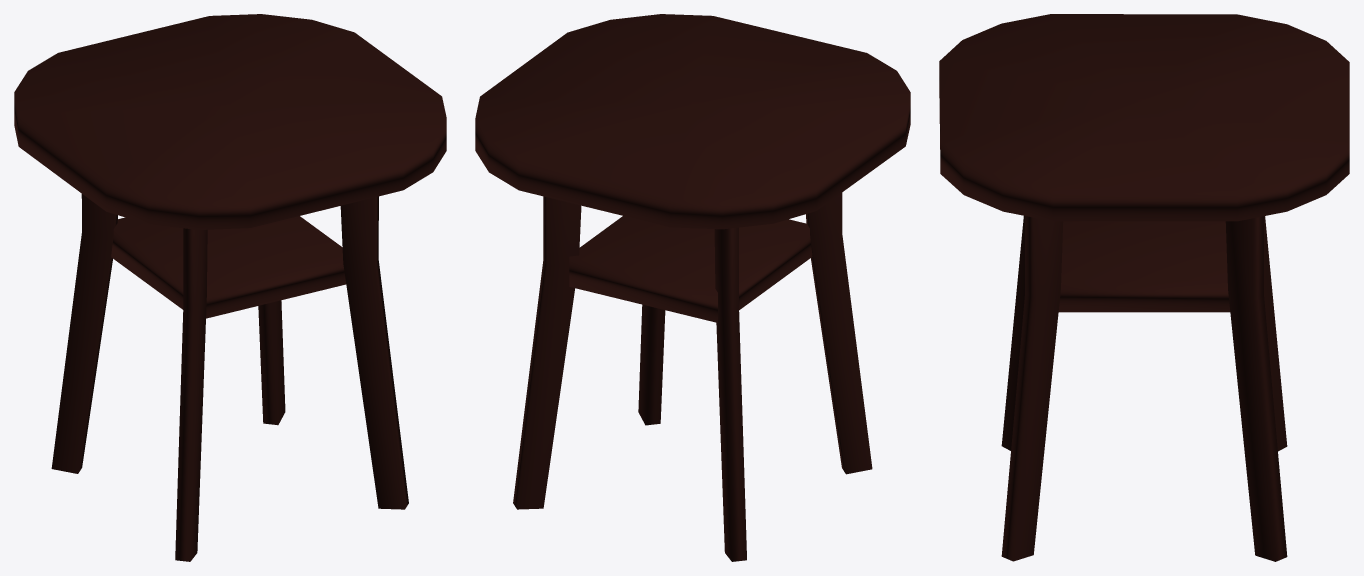
Rendered from EndTable_Collider.fbx.
3 renders of one model, left to right at view 1: azimuth 30°, elevation 25°; view 2: azimuth 150°, elevation 25°; view 3: azimuth 270°, elevation 25°, orthographic. The views are drawn at different scales.
Visible parts, largest first — view 1: EndTable_Collider; view 2: EndTable_Collider; view 3: EndTable_Collider.
Part boxes in pixels (x1,y1,x2,y2): EndTable_Collider: [14, 14, 446, 561]; EndTable_Collider: [475, 14, 910, 561]; EndTable_Collider: [939, 14, 1349, 561].
Bounding box in the file's own units: 58.5 × 63.47 × 58.5.
